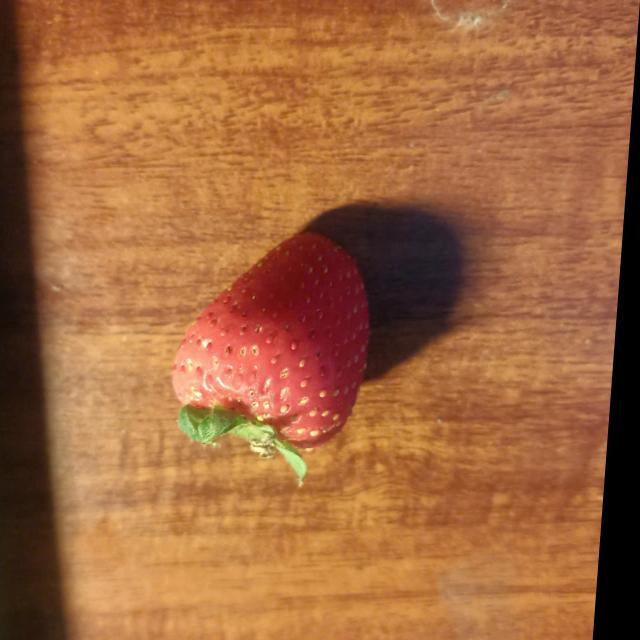DauTay: (167, 228, 382, 458)
